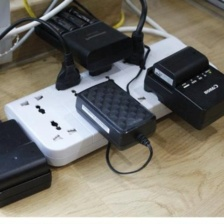three_eye_plug: (2, 35, 223, 169)
